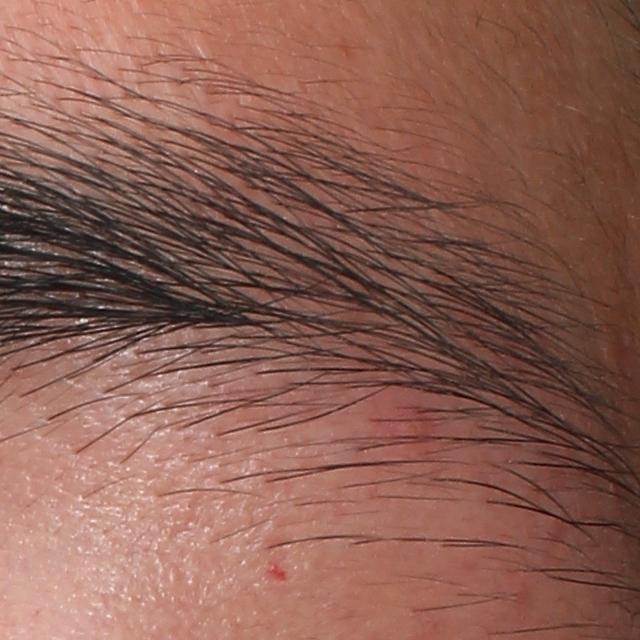other: (266, 561, 289, 581)
